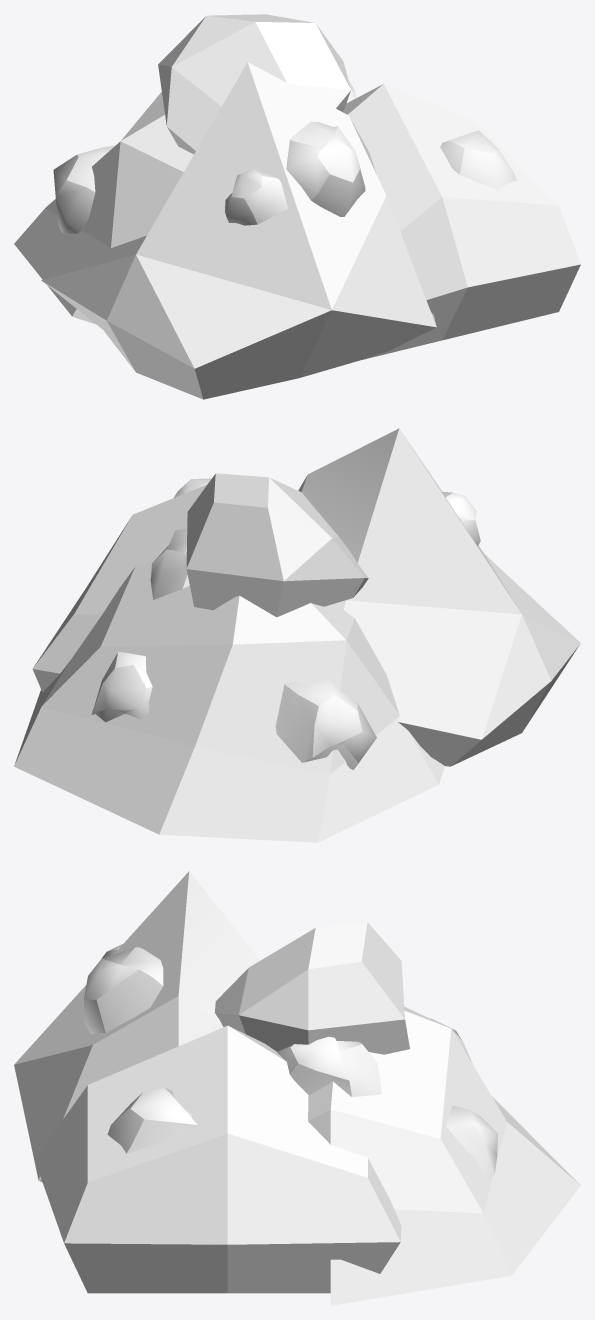
Rendered from GoldMine01.fbx.
3 views of the same model, one above another, from view 1: azimuth 30°, elevation 25°; view 2: azimuth 150°, elevation 25°; view 3: azimuth 270°, elevation 25° (orthographic). The views are drawn at different scales.
Parts seen in each view (by area): view 1: pCube211; view 2: pCube211; view 3: pCube211.
Boxes of the visible parts, left/top/right/bottom form: pCube211: left=14, top=14, right=580, bottom=399; pCube211: left=14, top=428, right=580, bottom=842; pCube211: left=14, top=871, right=580, bottom=1305.
Size of the model in its own units: 281 by 170 by 303.
1 material, 1 textured.
